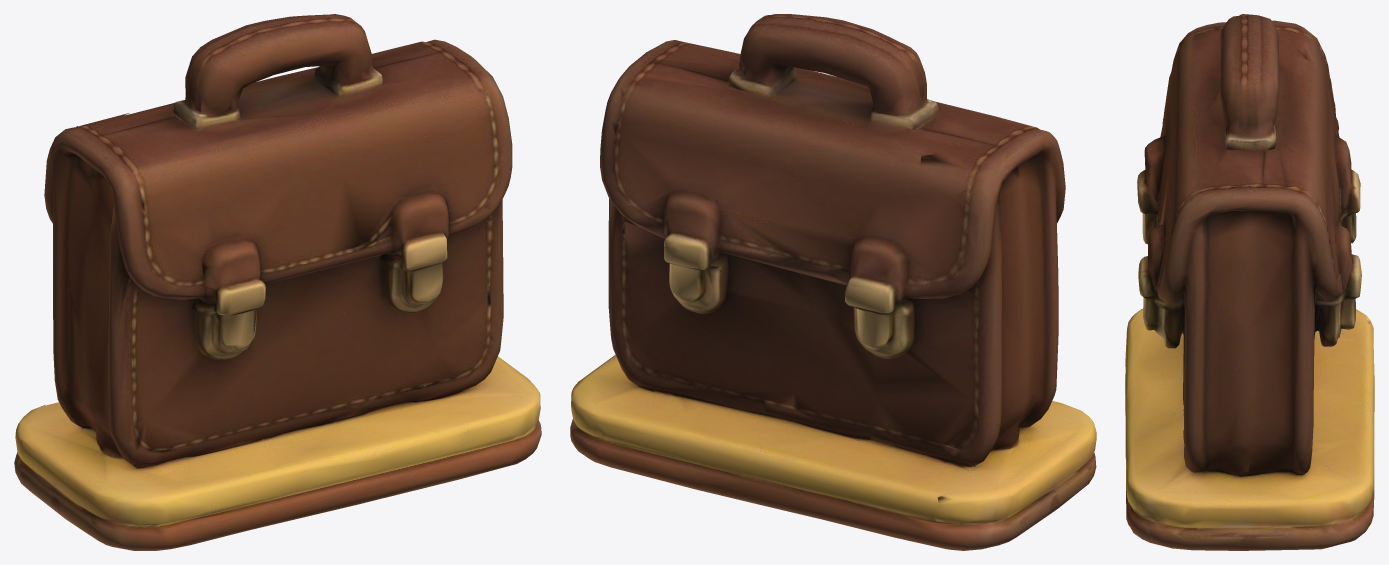
File: icon-job.glb
3 views of the same model, side by side, from view 1: azimuth 30°, elevation 25°; view 2: azimuth 150°, elevation 25°; view 3: azimuth 270°, elevation 25° (orthographic). The views are drawn at different scales.
Parts seen in each view (by area): view 1: Mesh_0; view 2: Mesh_0; view 3: Mesh_0.
Part boxes in pixels (x1,y1,x2,y2): Mesh_0: (14,14,541,550); Mesh_0: (570,14,1096,550); Mesh_0: (1125,14,1374,550).
Bounding box in the file's own units: 2 × 1.91 × 1.02.
1 material, 1 textured.
